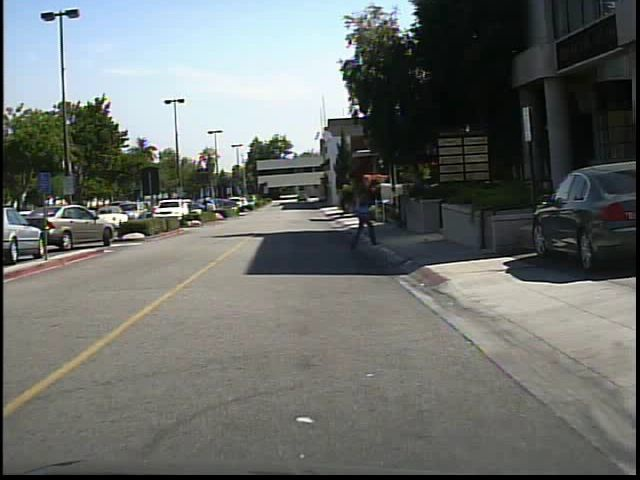person: (345, 179, 378, 253)
